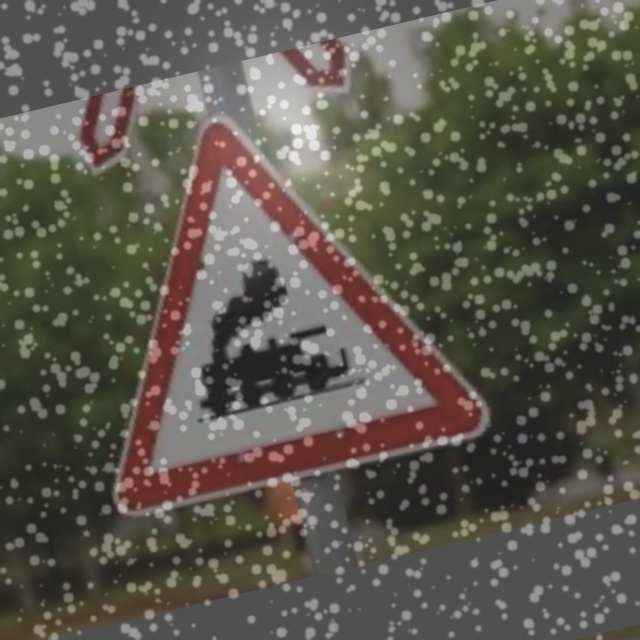Unguarded_Level_Crossing: (22, 80, 517, 531)
